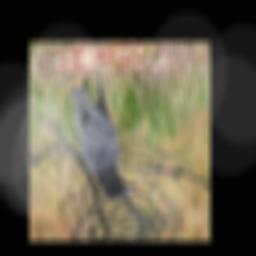Crow: (67, 63, 138, 207)
